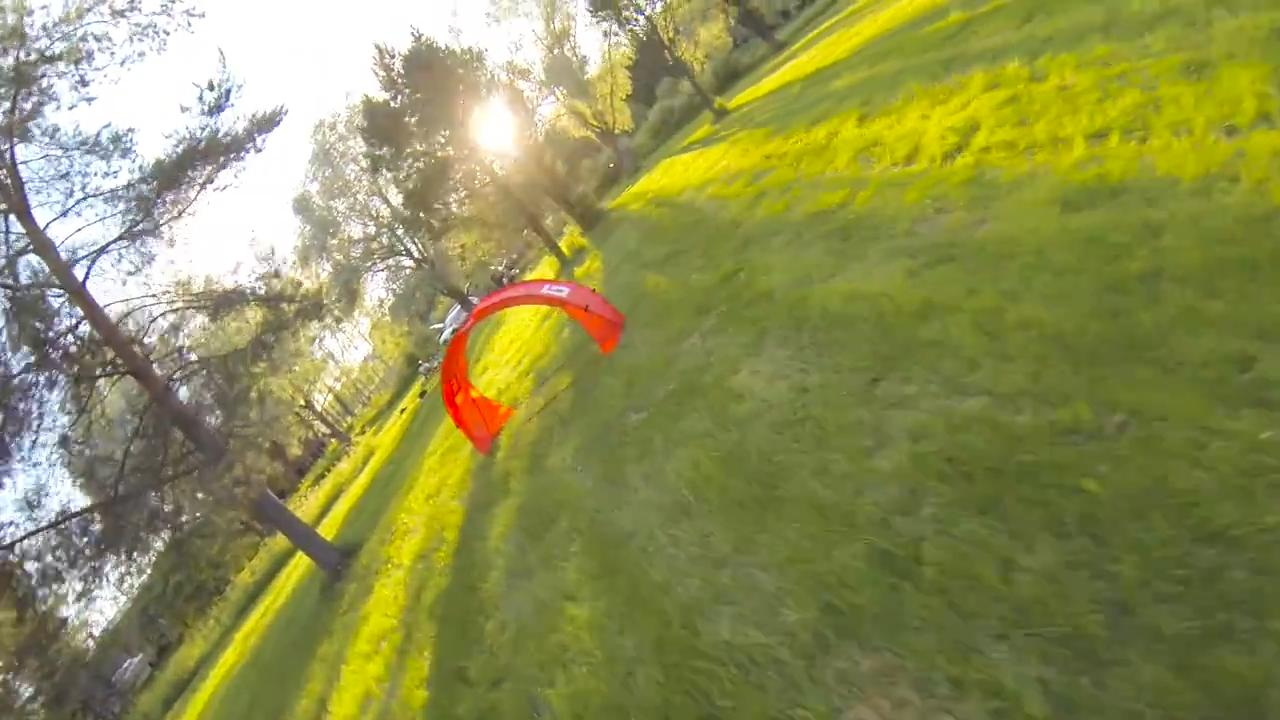gate: (439, 277, 629, 454)
